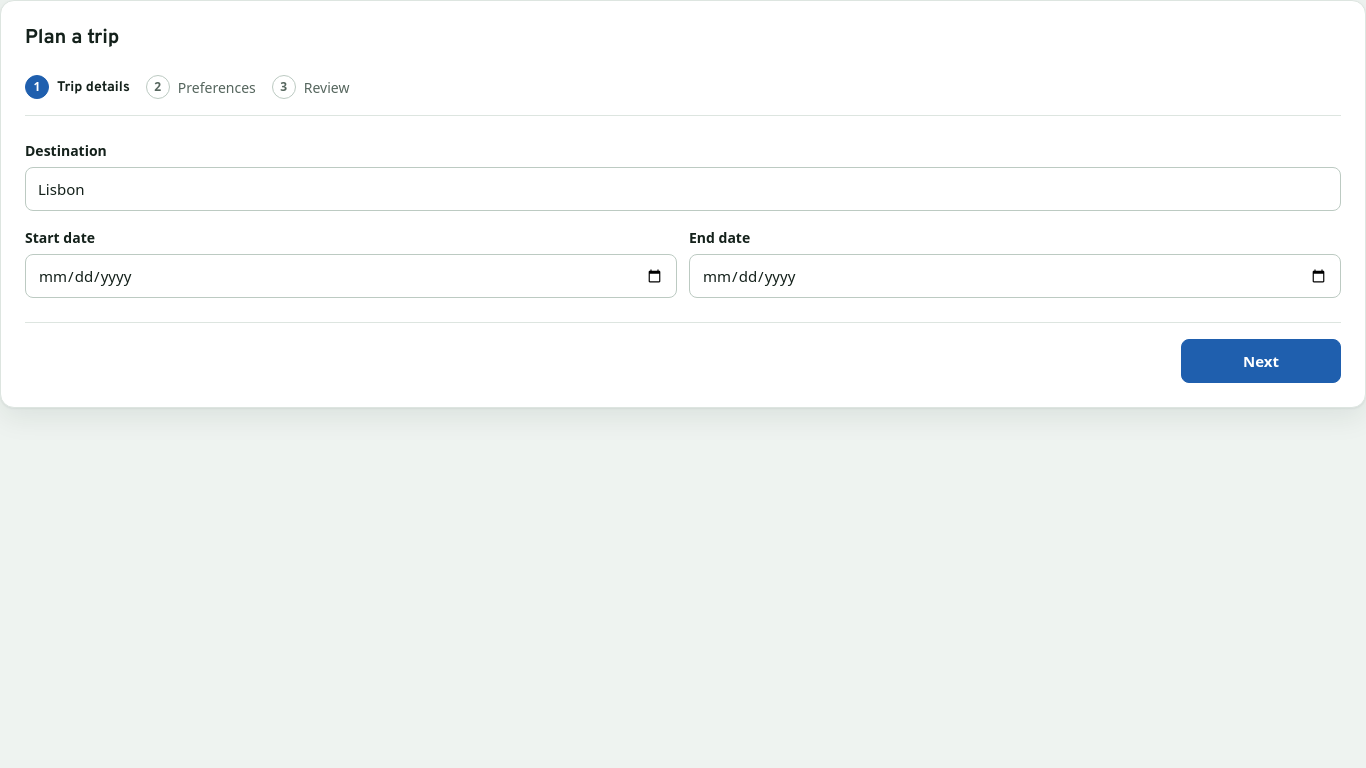
PreferenceForm › goes from Preferences to Review on Next, without planning the trip
Type "2030-05-01" into the date field labelled "Start date" at (351, 276), box [25, 254, 677, 298]
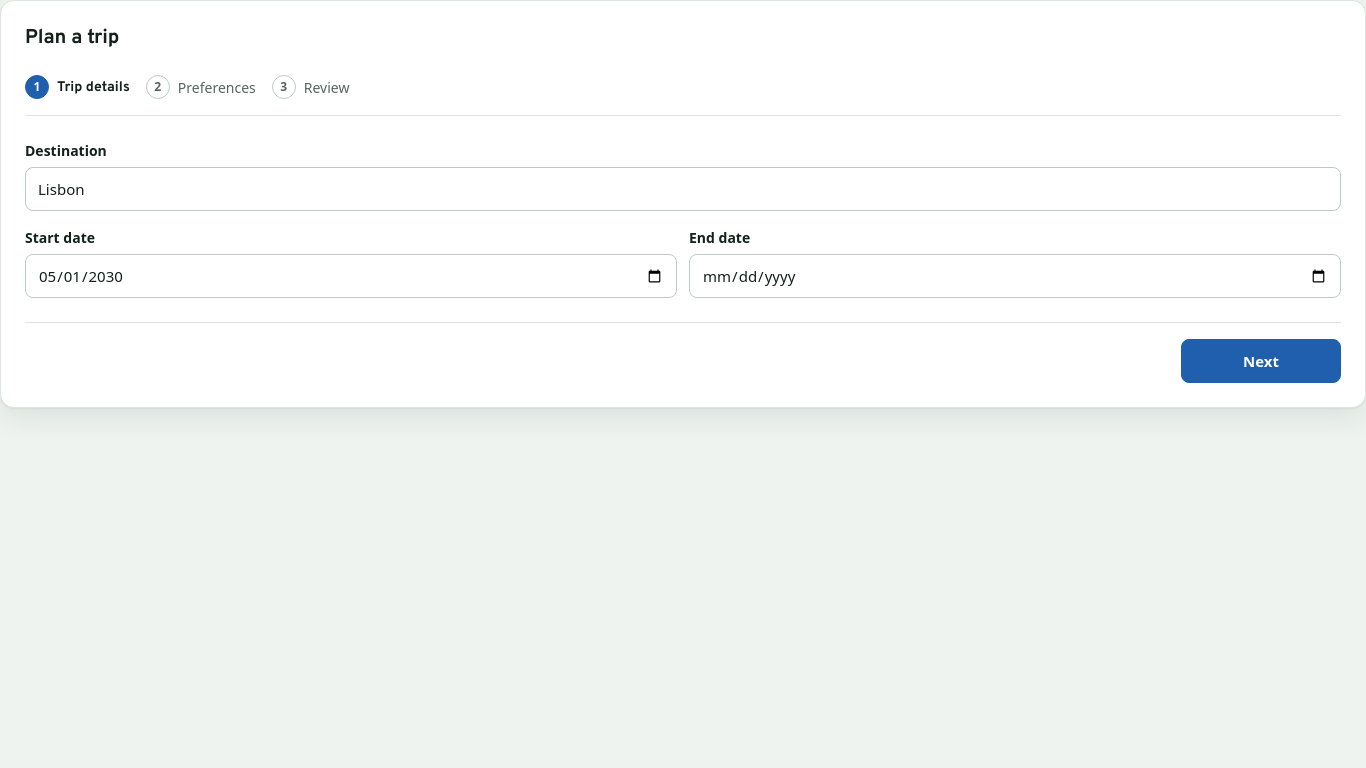
Type "2030-05-03" into the date field labelled "End date" at (1015, 276), box [689, 254, 1341, 298]
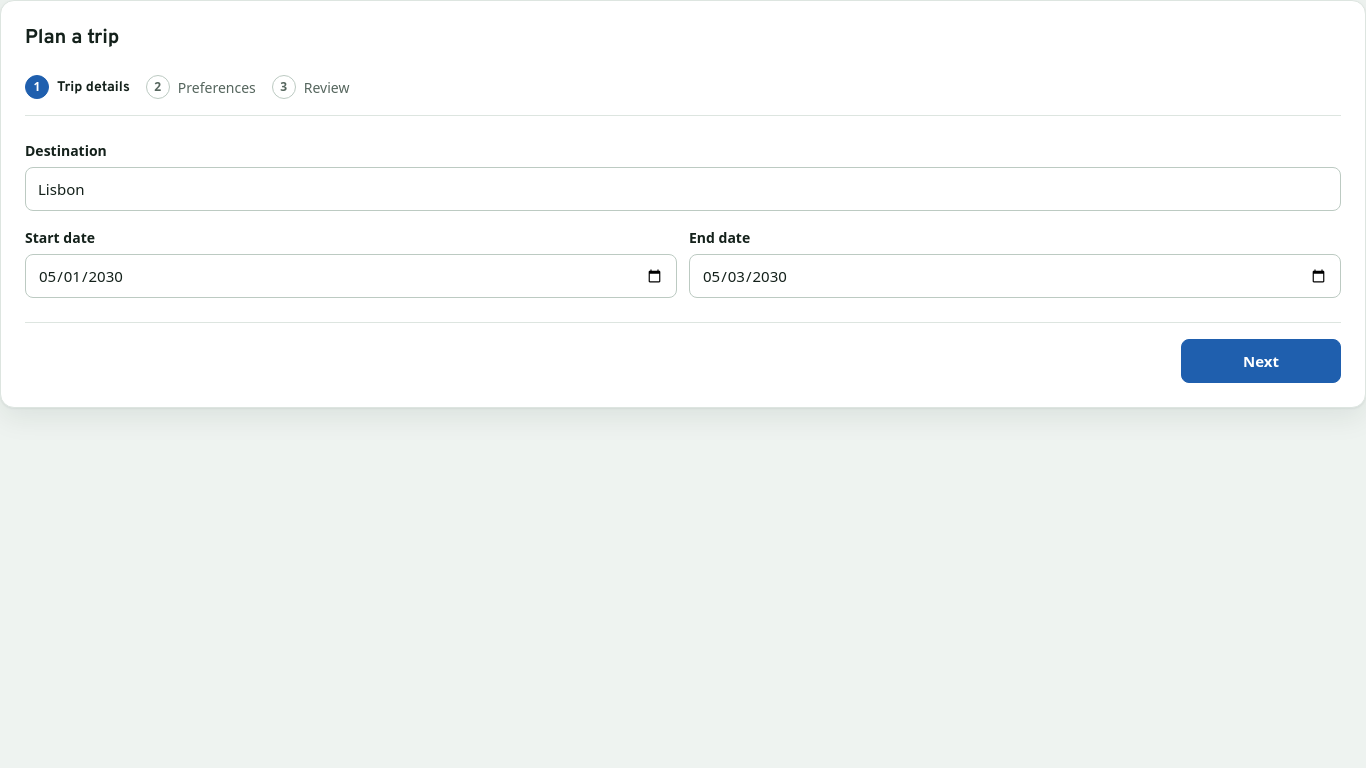
Click the button "Next" at (1261, 361), box [1181, 339, 1341, 383]
(page scrolled)
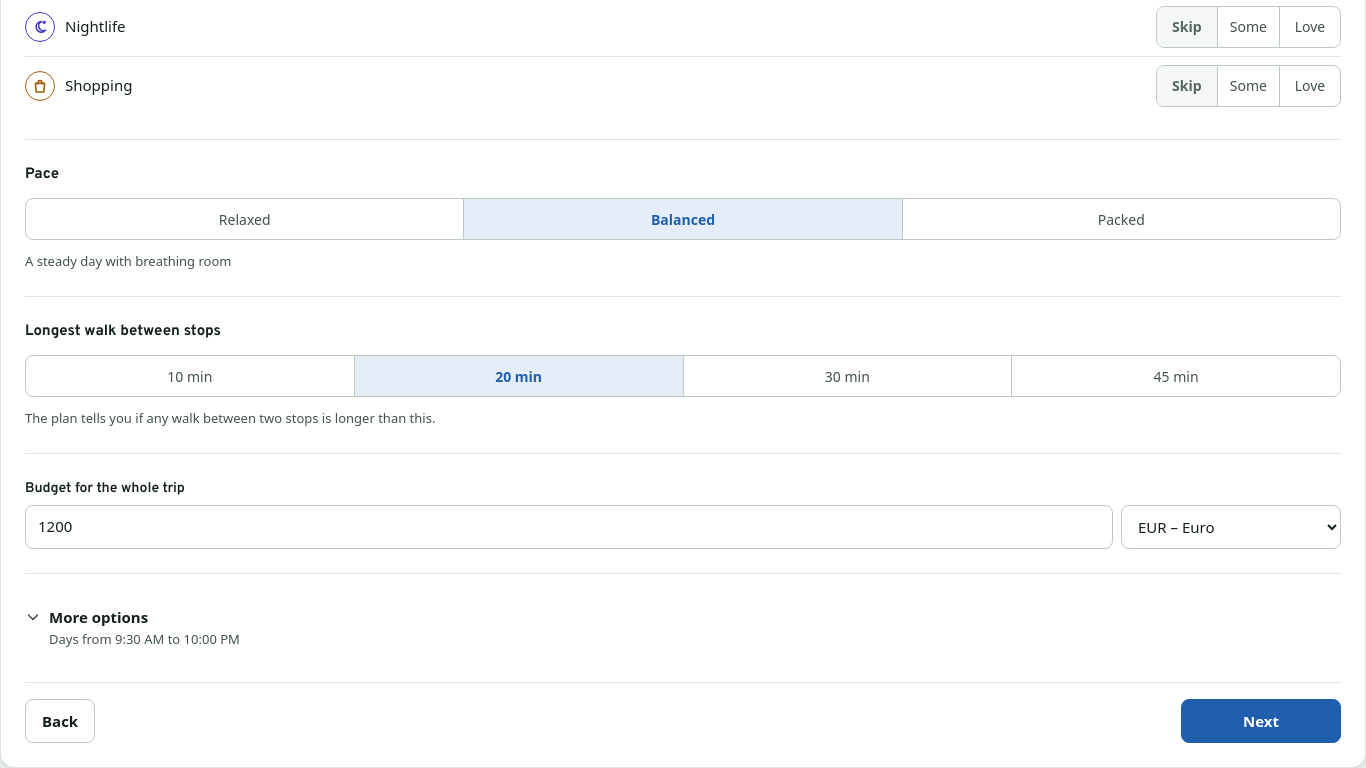
Click the button "Next" at (1261, 720), box [1181, 698, 1341, 742]
(page scrolled)
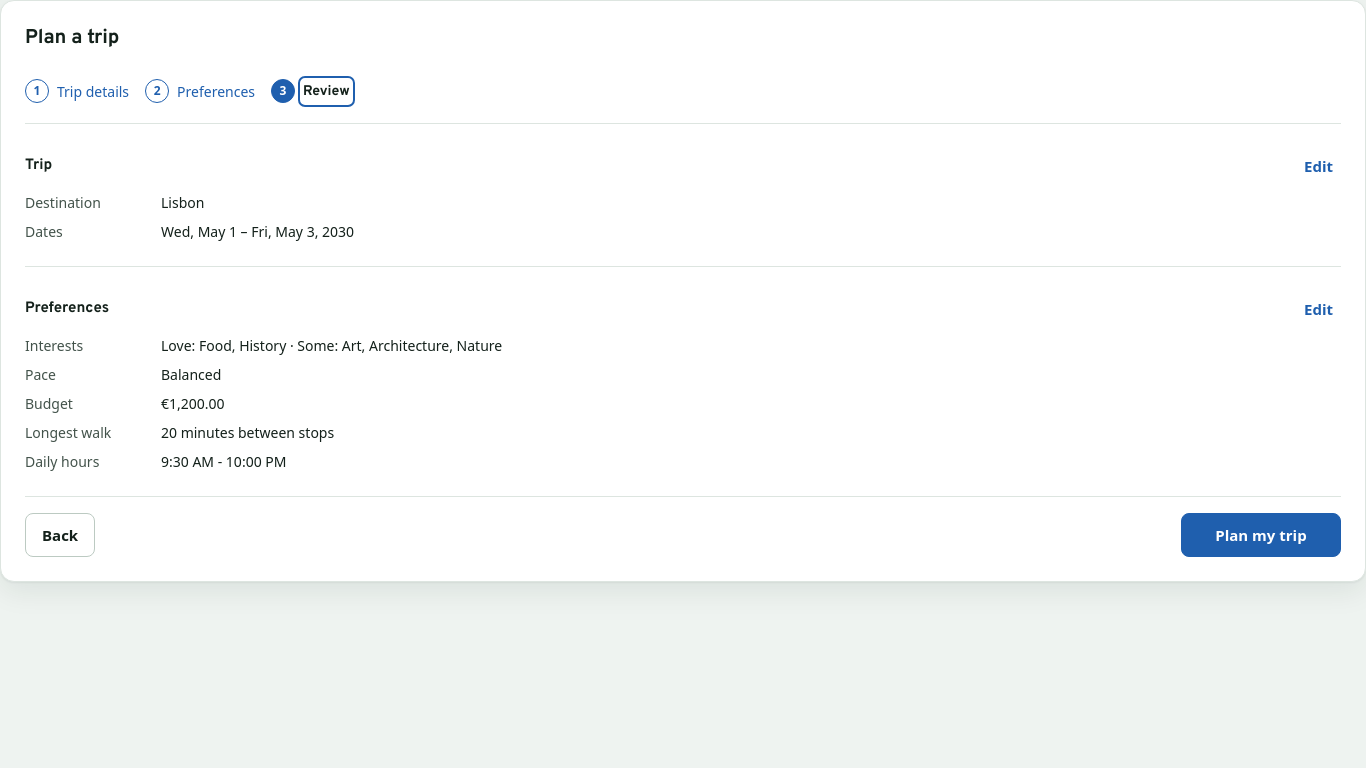
Result: the heading "Review" is shown at [303, 80, 350, 102]
